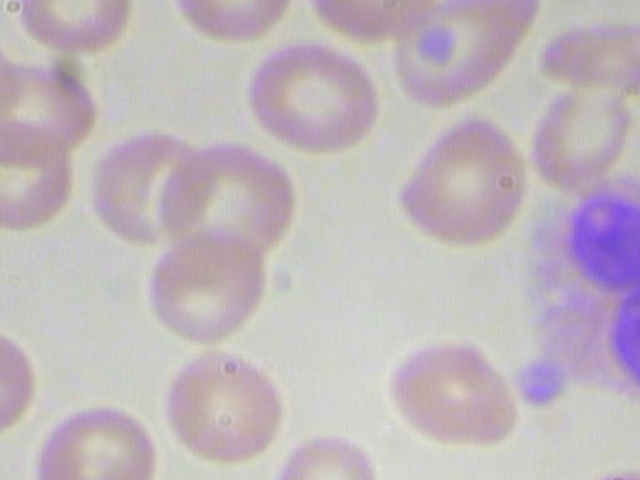Platelets: (509, 358, 567, 411)
RBC: (362, 331, 536, 458), (385, 109, 536, 255), (236, 34, 388, 161), (151, 138, 298, 269), (391, 0, 547, 112), (159, 342, 294, 468), (138, 226, 274, 351), (30, 398, 166, 480), (0, 58, 98, 157), (0, 118, 82, 235), (536, 8, 640, 87), (12, 0, 135, 63), (174, 0, 296, 63), (266, 416, 384, 480)
WBC: (525, 173, 640, 414)
